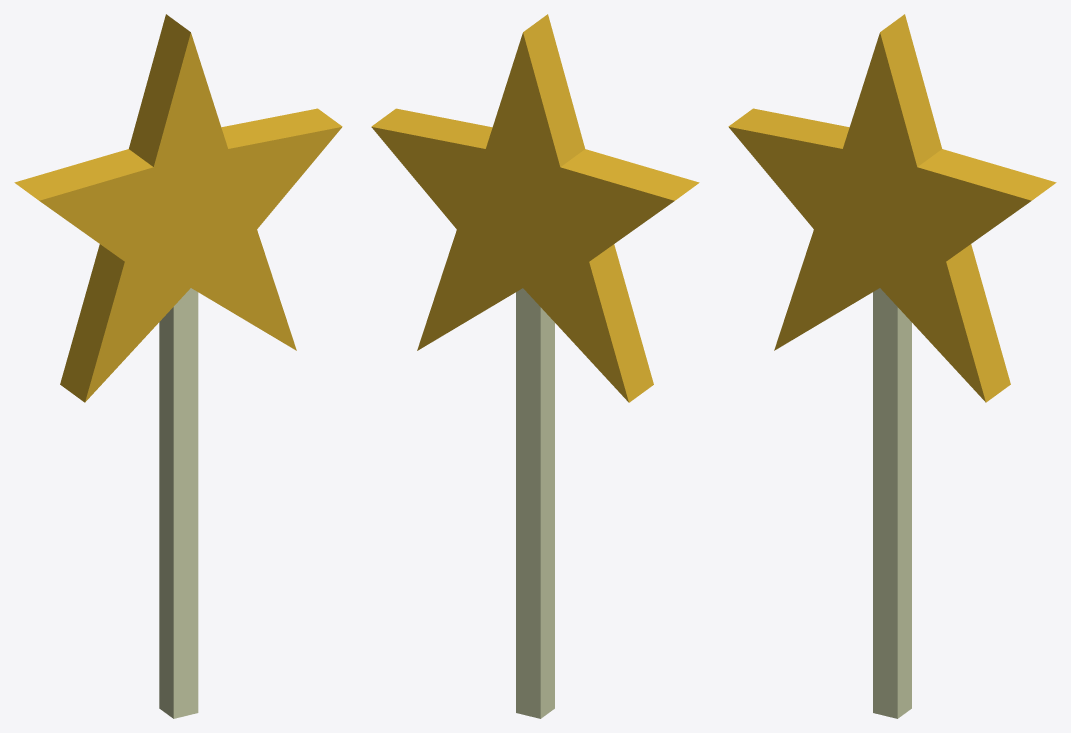
Rendered from lolipop_star.fbx.
The picture shows the model from 3 angles, left to right: view 1: azimuth 30°, elevation 25°; view 2: azimuth 150°, elevation 25°; view 3: azimuth 330°, elevation 25°; orthographic projection.
Visible parts, largest first — view 1: lolipop_star; view 2: lolipop_star; view 3: lolipop_star.
Part boxes in pixels (x1=…): lolipop_star: x1=14, y1=14, x2=342, y2=718; lolipop_star: x1=371, y1=14, x2=699, y2=718; lolipop_star: x1=728, y1=14, x2=1056, y2=718.
Size of the model in its own units: 48.56 by 105 by 6.91.
